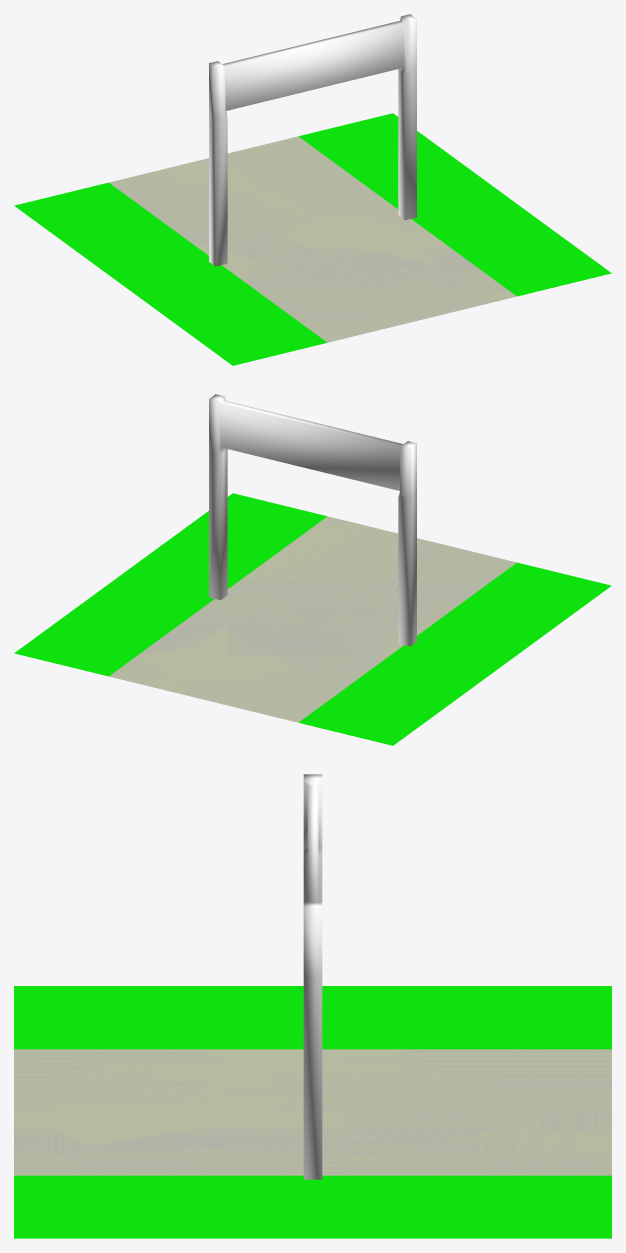
File: roadSign.obj
3 views of the same model, one above another, from view 1: azimuth 30°, elevation 25°; view 2: azimuth 150°, elevation 25°; view 3: azimuth 270°, elevation 25° (orthographic). The views are drawn at different scales.
Visible parts, largest first — view 1: Cube1, Cube1_copy2, Cube1_copy3, Cube4; view 2: Cube1, Cube1_copy2, Cube1_copy3, Cube4; view 3: Cube1, Cube1_copy3, Cube1_copy2, Cube4.
Boxes of the visible parts, x1,y1,x2,y2 form: Cube1: (109,136,516,342); Cube1_copy2: (14,182,327,365); Cube1_copy3: (299,113,611,296); Cube4: (209,14,416,266); Cube1: (109,516,516,722); Cube1_copy2: (298,562,611,745); Cube1_copy3: (14,493,326,676); Cube4: (209,394,416,646); Cube1: (14,1049,611,1175); Cube1_copy3: (14,1175,611,1238); Cube1_copy2: (14,986,611,1049); Cube4: (303,774,322,1179).
Bounding box in the file's own units: 8 × 4 × 8.
